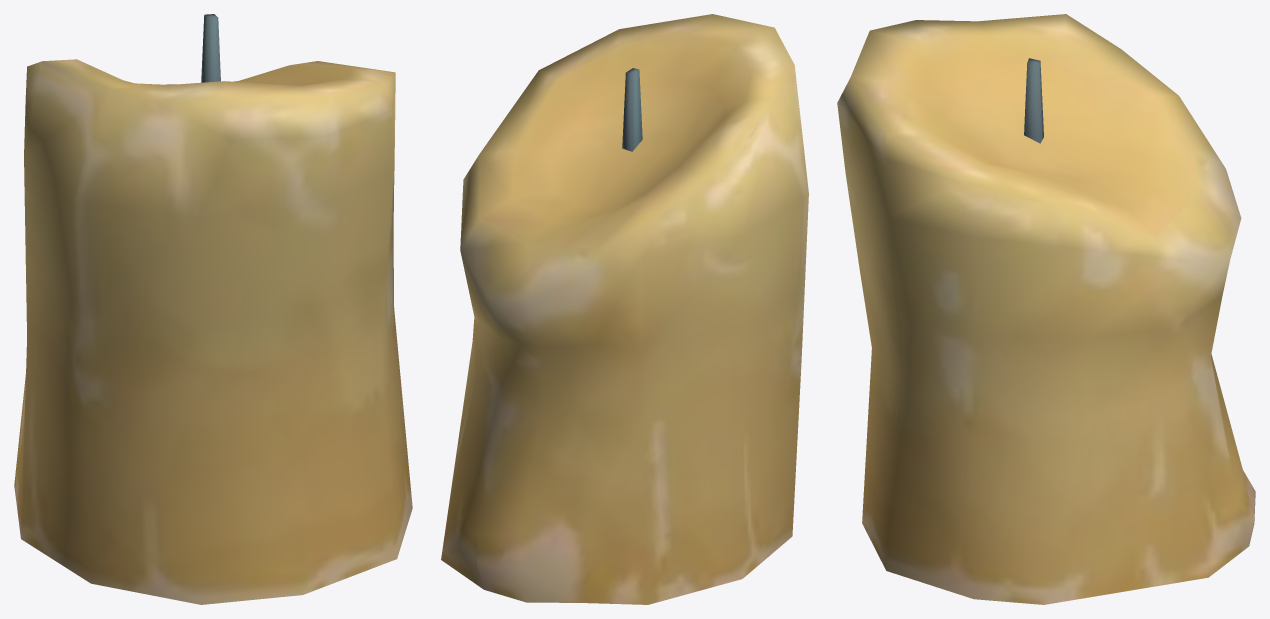
Rendered from Candle_1.glb.
3 views of the same model, side by side, from view 1: azimuth 30°, elevation 25°; view 2: azimuth 150°, elevation 25°; view 3: azimuth 270°, elevation 25° (orthographic). The views are drawn at different scales.
Visible parts, largest first — view 1: Candle_1; view 2: Candle_1; view 3: Candle_1.
Part boxes in pixels (x1,y1,x2,y2): Candle_1: (14,14,412,604); Candle_1: (441,14,808,604); Candle_1: (837,14,1255,604).
Bounding box in the file's own units: 0.0939 × 0.132 × 0.1079.
Materials: 1 (1 with a texture image).
